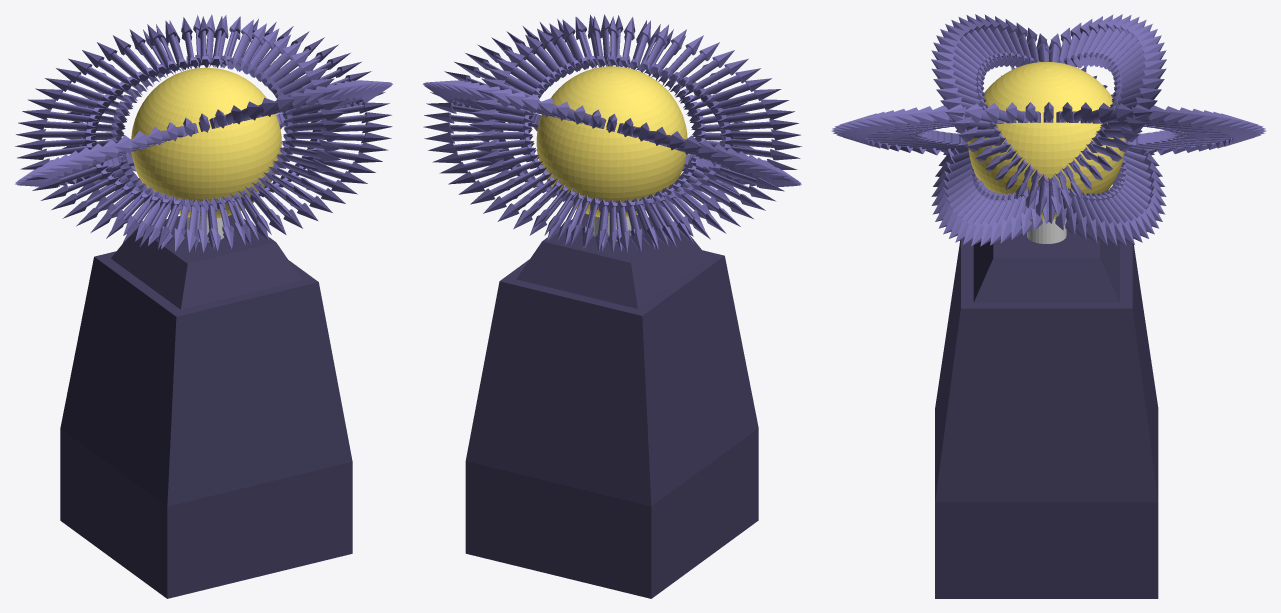
File: TowerLightingPhys.fbx
The picture shows the model from 3 angles, left to right: view 1: azimuth 30°, elevation 25°; view 2: azimuth 150°, elevation 25°; view 3: azimuth 270°, elevation 25°; orthographic projection. The views are drawn at different scales.
Parts seen in each view (by area): view 1: Tower, back, back.001, Sphere, back.002; view 2: Tower, back.002, back.001, Sphere, back; view 3: Tower, back.002, back, back.001, Sphere, Prop.
Part boxes in pixels (x1=…): Tower: x1=60, y1=215, x2=352, y2=598; back: x1=15, y1=16, x2=392, y2=251; back.001: x1=62, y1=14, x2=346, y2=252; Sphere: x1=131, y1=67, x2=281, y2=219; back.002: x1=15, y1=80, x2=392, y2=186; Tower: x1=465, y1=213, x2=758, y2=598; back.002: x1=423, y1=16, x2=801, y2=251; back.001: x1=469, y1=14, x2=754, y2=253; Sphere: x1=536, y1=66, x2=687, y2=218; back: x1=423, y1=80, x2=801, y2=187; Tower: x1=935, y1=220, x2=1158, y2=598; back.002: x1=931, y1=14, x2=1166, y2=246; back: x1=931, y1=14, x2=1166, y2=246; back.001: x1=831, y1=102, x2=1266, y2=155; Sphere: x1=968, y1=62, x2=1125, y2=219; Prop: x1=1027, y1=218, x2=1066, y2=243.
Size of the model in its own units: 546 by 681 by 546.
